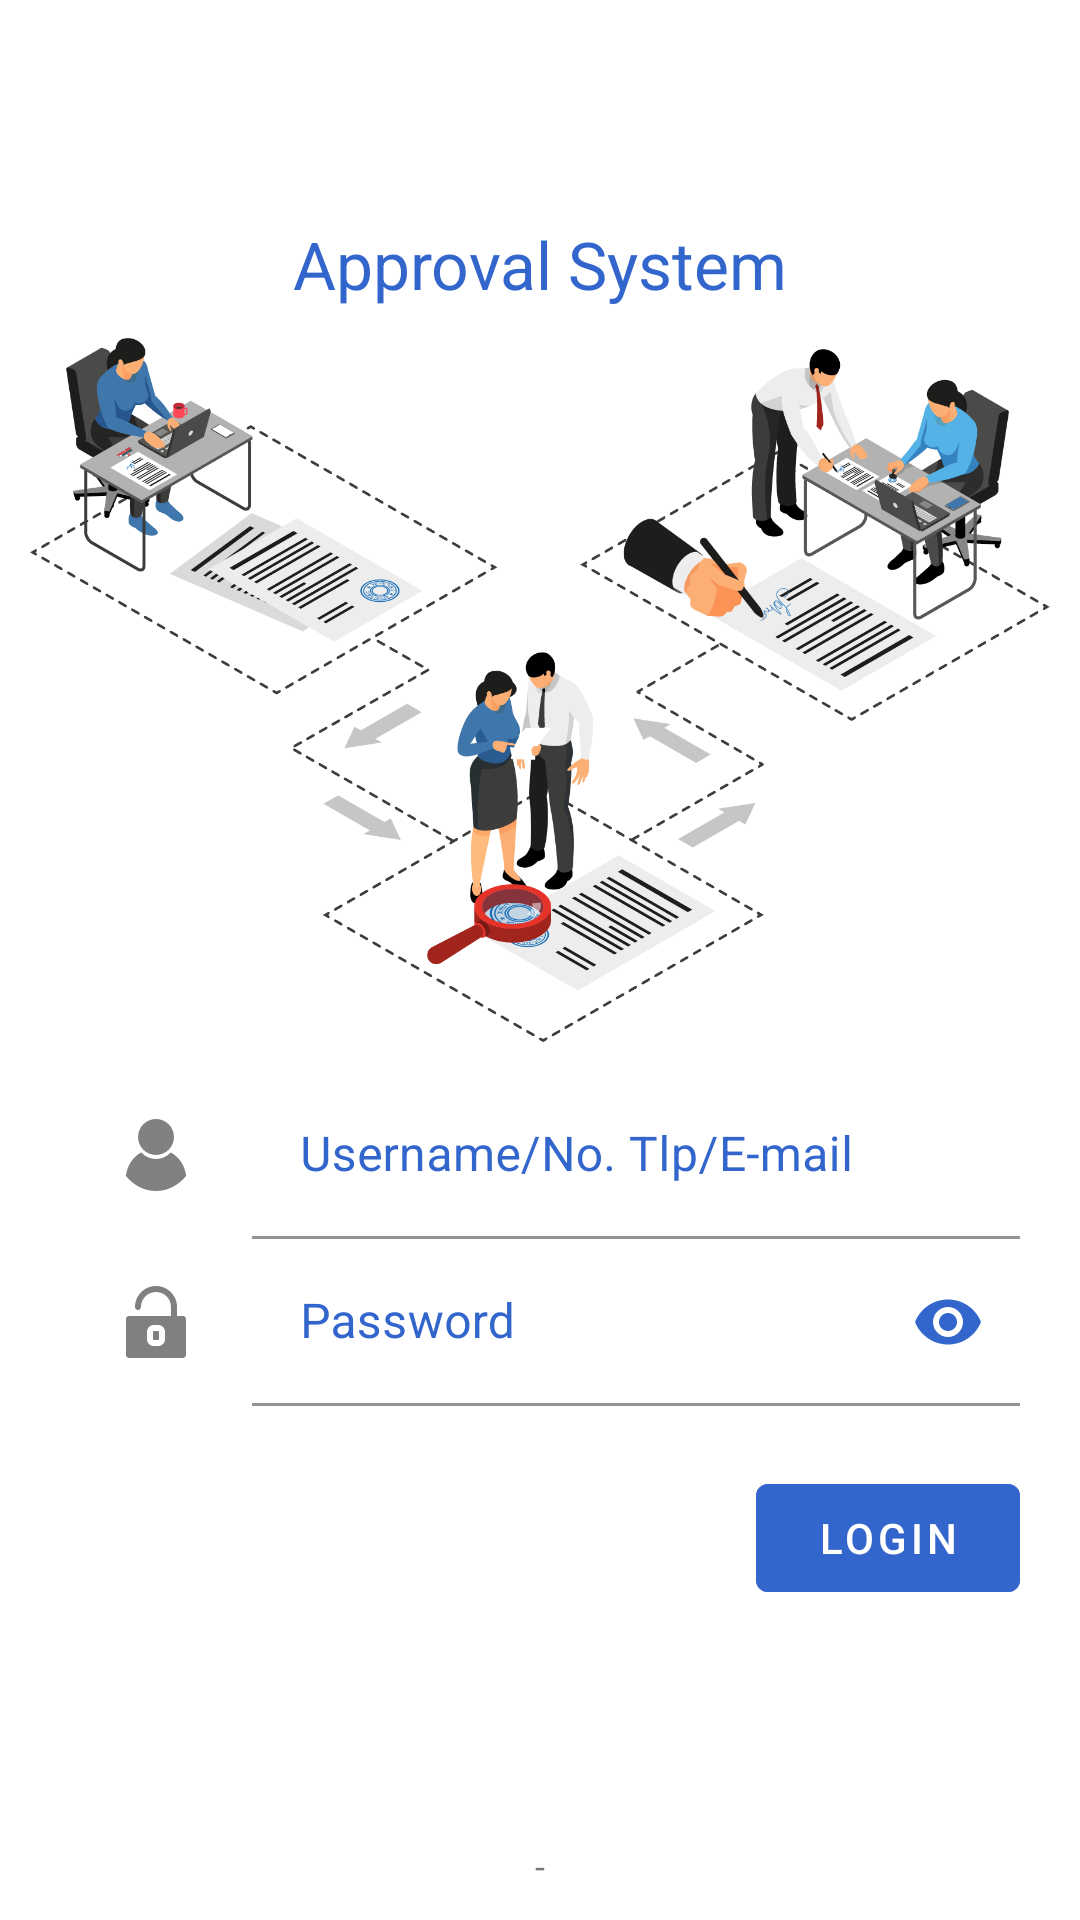

Named icons in this screenshot (1080px×1920px) and their bounding boxes, (x1, y1, x2, y2):
lock: (126, 1286, 186, 1358)
